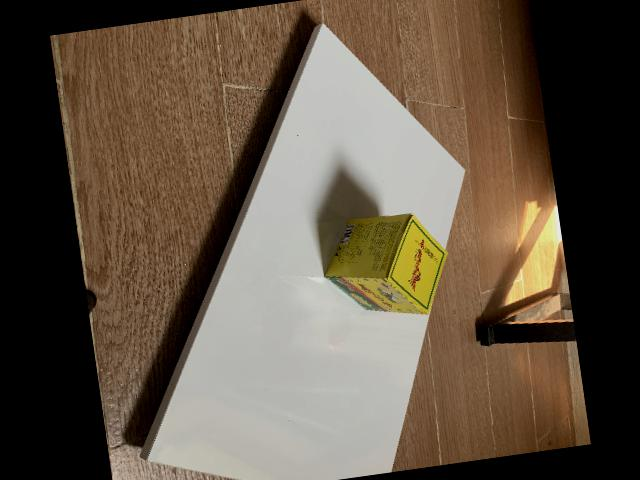luong_kho: (323, 213, 447, 315)
